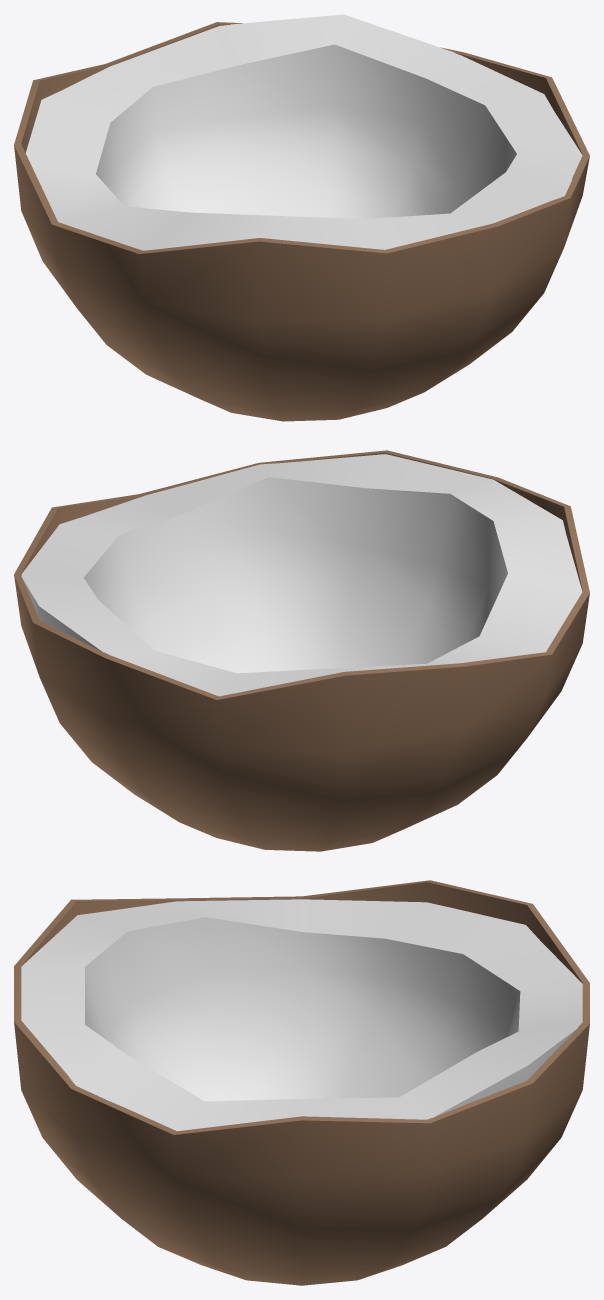
File: CocoAbierto.fbx
3 renders of one model, top to bottom at view 1: azimuth 30°, elevation 25°; view 2: azimuth 150°, elevation 25°; view 3: azimuth 270°, elevation 25°, orthographic. The views are drawn at different scales.
Parts seen in each view (by area): view 1: coco_inside, coco_cubierta; view 2: coco_inside, coco_cubierta; view 3: coco_inside, coco_cubierta.
Boxes of the visible parts, left/top/right/bottom form: coco_inside: left=25, top=14, right=582, bottom=250; coco_cubierta: left=14, top=22, right=589, bottom=421; coco_inside: left=21, top=454, right=582, bottom=696; coco_cubierta: left=14, top=450, right=589, bottom=851; coco_inside: left=21, top=899, right=582, bottom=1131; coco_cubierta: left=14, top=880, right=589, bottom=1285.
Size of the model in its own units: 4.71 by 2.51 by 4.59.
